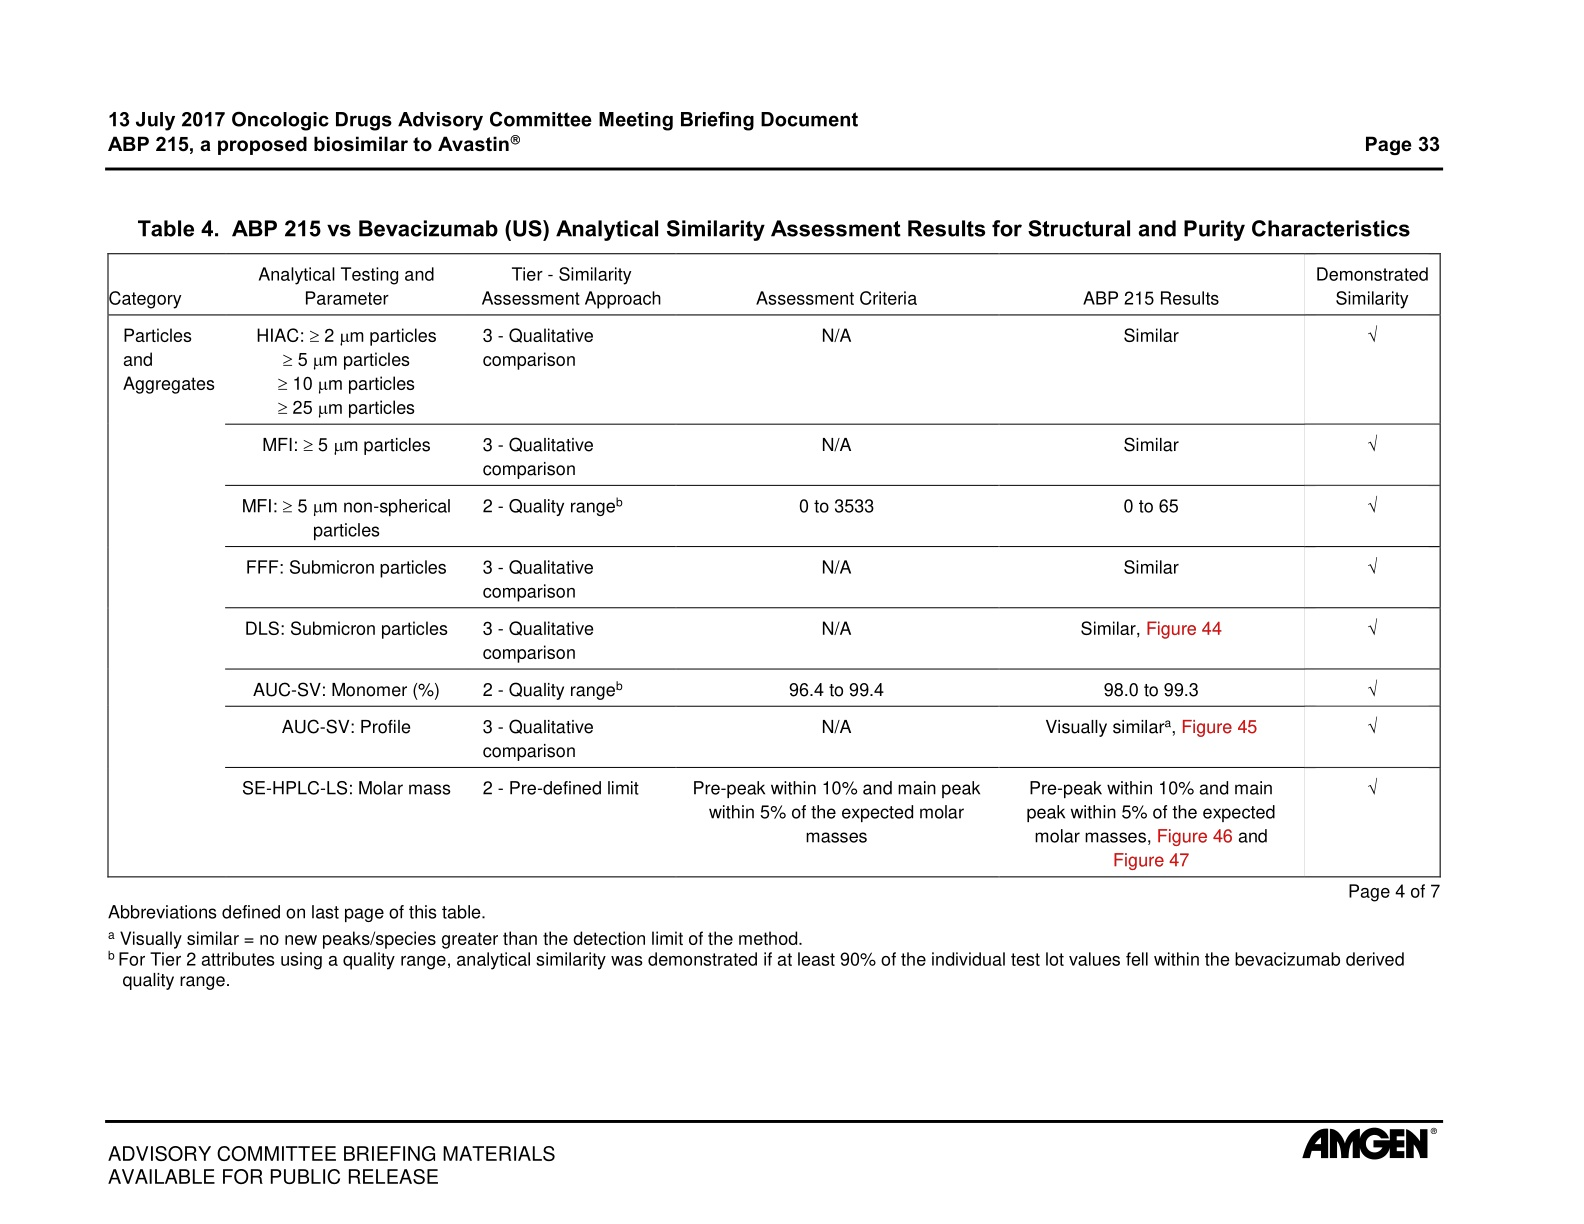partial_lined_merged_cells: (107, 252, 1443, 879)
